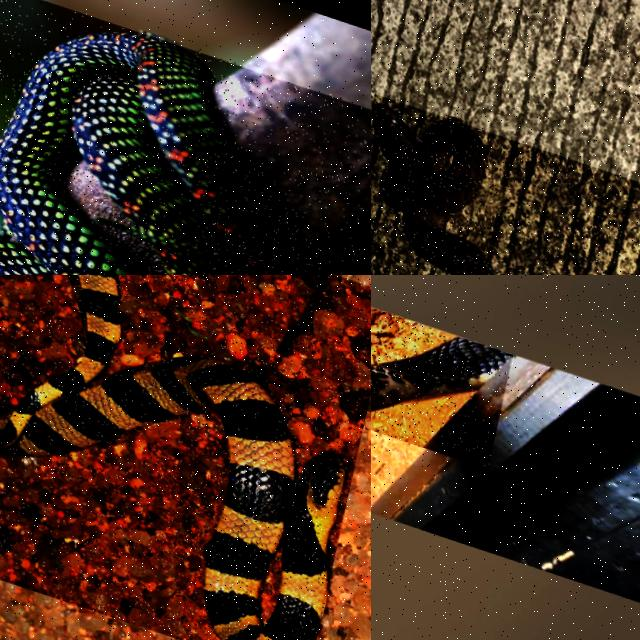Bungarus fasciatus: (0, 275, 345, 639)
Calloselasma rhodostoma: (372, 100, 494, 274)
Chrysopelea ornata: (0, 29, 309, 274)
Naja siamensis: (371, 337, 515, 413)
